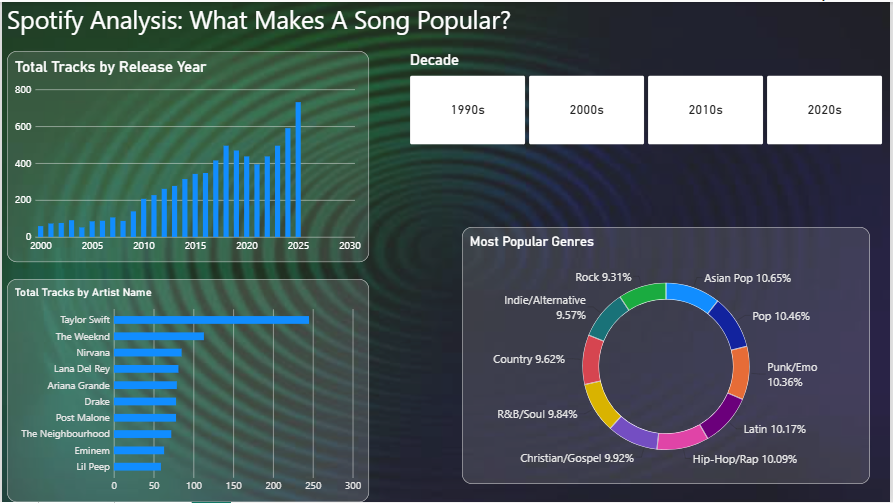

The dashboard page shown, as its layout file describes it:
{"tool":"powerbi","page":{"name":"Page 1","canvas":[1920,1080],"ordinal":0},"visuals":[{"type":"textbox","box":[10.8,0,1125.4,142.6],"z":0},{"type":"columnChart","title":"Total Tracks by Release Year","fields":{"Category":["spotify_tracks_cleaned.release_year"],"Y":["spotify_tracks_cleaned.Total Tracks"]},"box":[10.8,105.8,781.9,455.8],"z":1},{"type":"barChart","title":"Total Tracks by Artist Name","fields":{"Category":["spotify_tracks_cleaned.artist_name"],"Y":["spotify_tracks_cleaned.Total Tracks"]},"box":[10.8,598.3,781.9,481.7],"z":2},{"type":"donutChart","title":"Most Popular Genres","fields":{"Category":["spotify_tracks_final.main_genre"],"Y":["spotify_tracks_cleaned.Avg Track Popularity"]},"box":[993.6,486,881.3,555.1],"z":3},{"type":"advancedSlicerVisual","title":"Decade","fields":{"Values":["spotify_tracks_final.decade"]},"box":[881.3,105.8,1023.7,202.5],"z":4}]}

Visuals, with their boxes in screenshot pixels (x1, y1, x2, y2), scaled from the page's 1920x1080 canvas onto the 893x503 screenshot:
textbox: (5, 0, 528, 66)
"Total Tracks by Release Year" columnChart: (5, 49, 369, 262)
"Total Tracks by Artist Name" barChart: (5, 279, 369, 502)
"Most Popular Genres" donutChart: (462, 226, 872, 485)
"Decade" advancedSlicerVisual: (410, 49, 886, 144)
